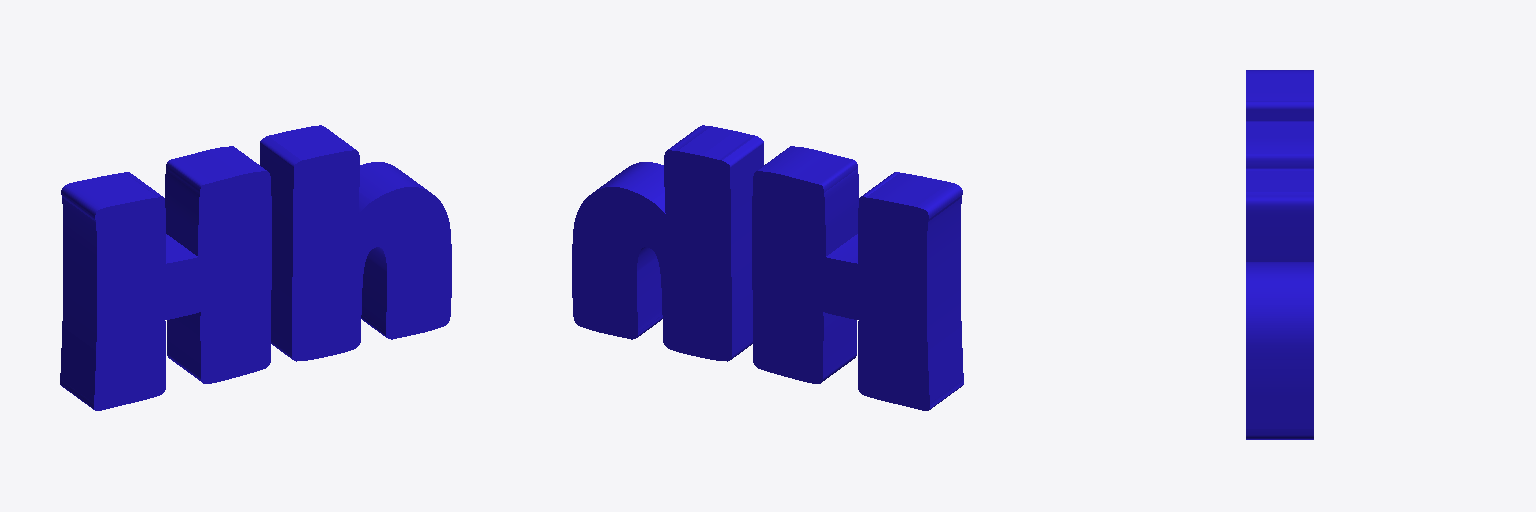
File: Letter_h.obj
The picture shows the model from 3 angles: view 1: azimuth 30°, elevation 25°; view 2: azimuth 150°, elevation 25°; view 3: azimuth 270°, elevation 25°; orthographic projection.
Visible parts, largest first — view 1: Text; view 2: Text; view 3: Text.
Boxes of the visible parts, x1=… form: Text: x1=60, y1=125, x2=451, y2=410; Text: x1=572, y1=125, x2=963, y2=410; Text: x1=1246, y1=70, x2=1313, y2=439.
Bounding box in the file's own units: 1.22 × 0.6619 × 0.2.